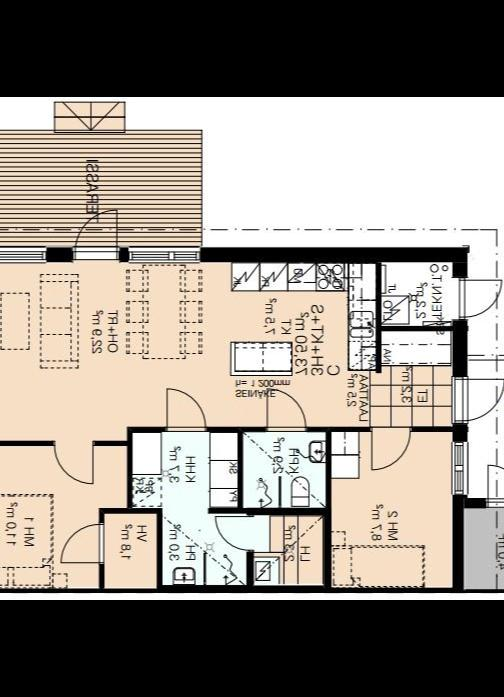door: (70, 206, 124, 267), (447, 374, 504, 426), (49, 434, 97, 488), (454, 273, 504, 323), (161, 384, 207, 436), (368, 422, 414, 473), (58, 518, 106, 566), (261, 387, 307, 436), (210, 512, 252, 554), (483, 459, 504, 512)
window: (121, 239, 205, 266), (446, 438, 468, 500), (0, 241, 54, 266)
